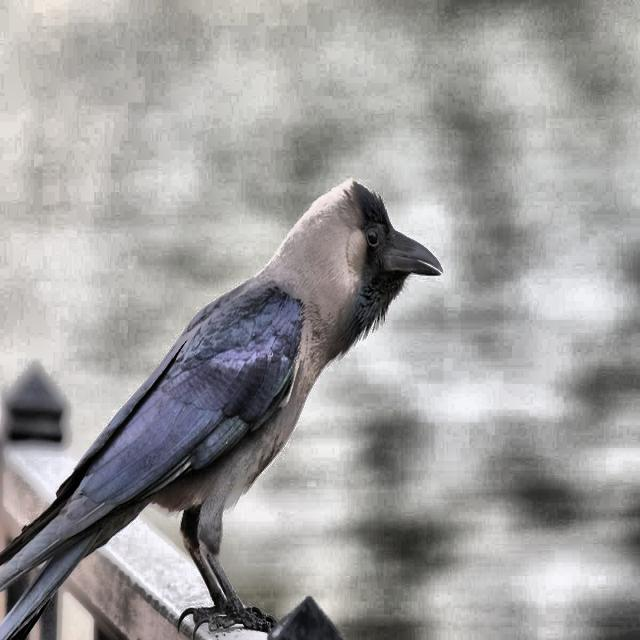crow: (0, 168, 462, 640)
